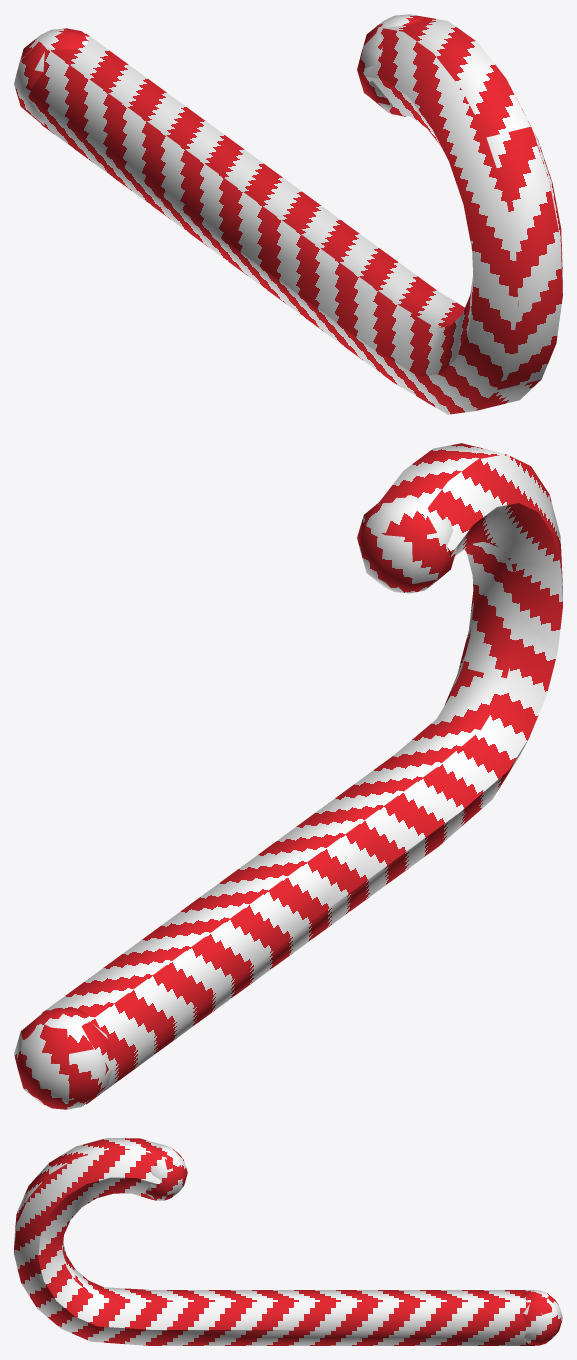
Rendered from x_grap_candy.glb.
The picture shows the model from 3 angles, top to bottom: view 1: azimuth 30°, elevation 25°; view 2: azimuth 150°, elevation 25°; view 3: azimuth 270°, elevation 25°; orthographic projection. The views are drawn at different scales.
Visible parts, largest first — view 1: hook_body.002; view 2: hook_body.002; view 3: hook_body.002.
Part boxes in pixels (<box>): hook_body.002: <box>14,14,562,414</box>; hook_body.002: <box>14,443,562,1109</box>; hook_body.002: <box>14,1138,562,1345</box>.
Size of the model in its own units: 0.06 by 0.2348 by 0.5857.
Materials: 1 (1 with a texture image).
